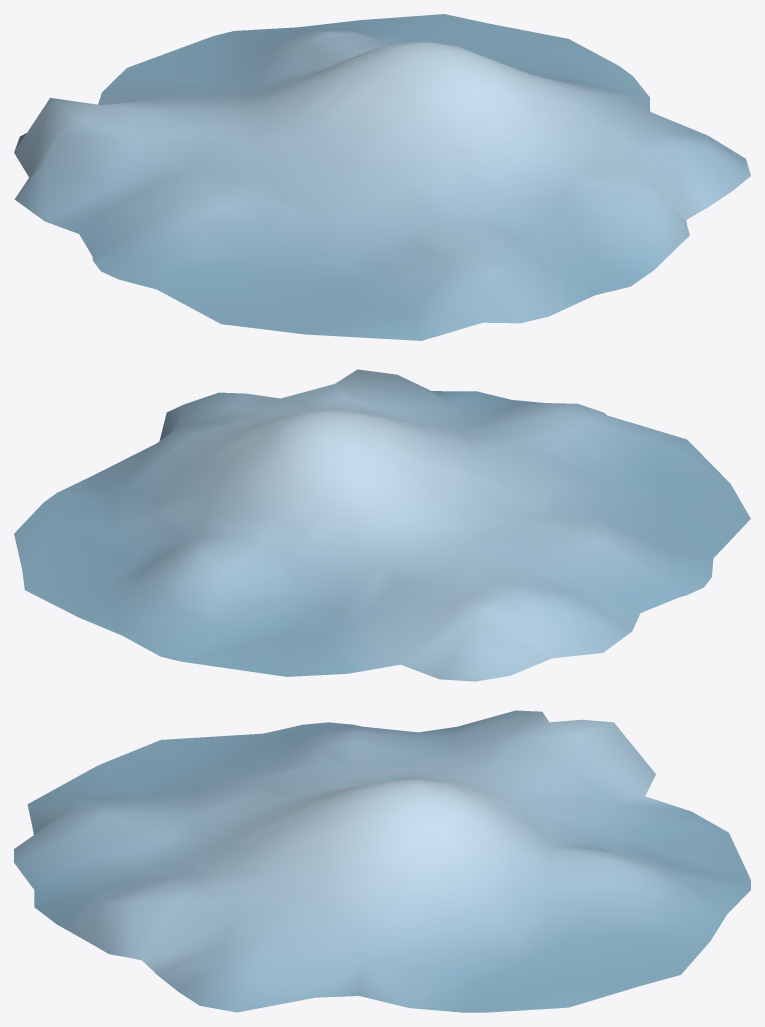
Rendered from Pile_of_snow_01.fbx.
3 views of the same model, one above another, from view 1: azimuth 30°, elevation 25°; view 2: azimuth 150°, elevation 25°; view 3: azimuth 270°, elevation 25° (orthographic). The views are drawn at different scales.
Visible parts, largest first — view 1: Pile_of_snow_01; view 2: Pile_of_snow_01; view 3: Pile_of_snow_01.
Part boxes in pixels (box(x1,y1,x2,y2)): Pile_of_snow_01: box(14, 14, 750, 340); Pile_of_snow_01: box(14, 369, 750, 681); Pile_of_snow_01: box(14, 710, 750, 1012).
Bounding box in the file's own units: 203 × 34.15 × 218.
